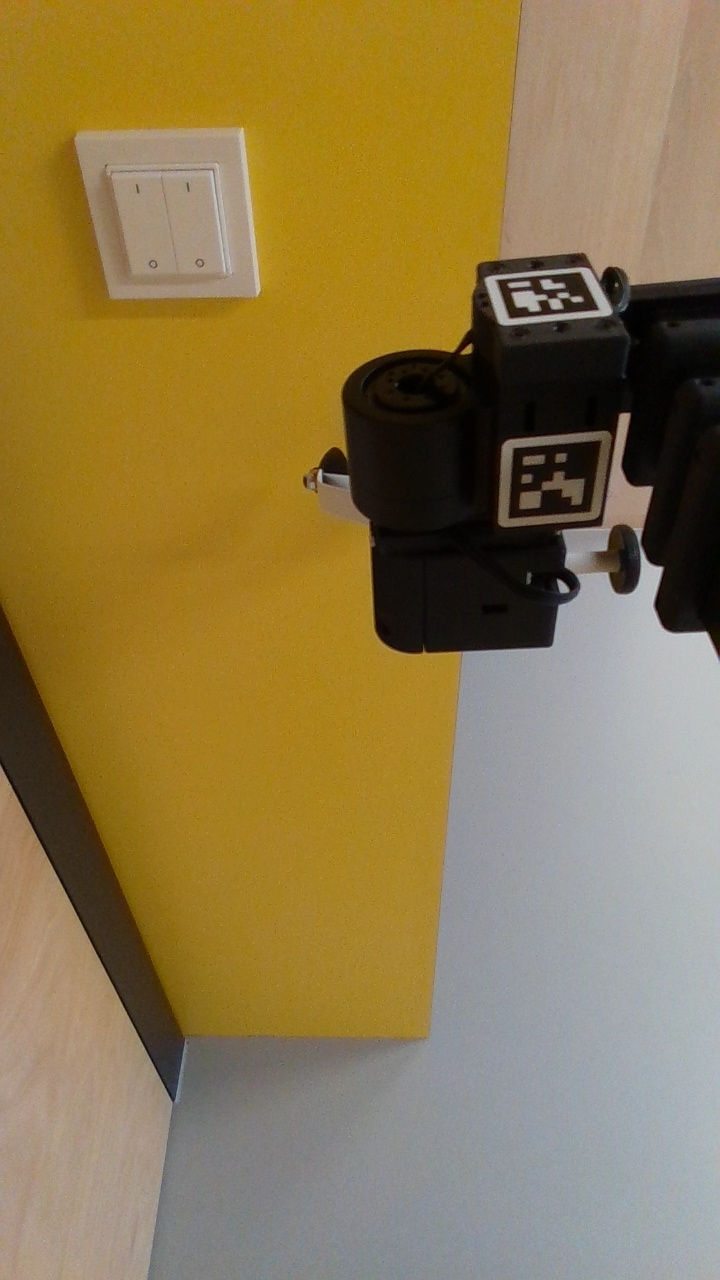Light_Switch: (84, 138, 247, 303)
